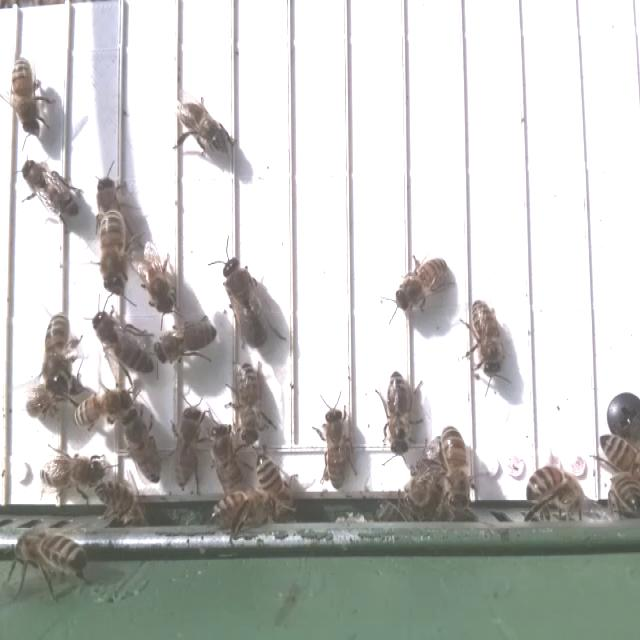Drone: (221, 251, 273, 353)
Worker: (90, 308, 154, 381), (18, 156, 83, 221), (152, 315, 220, 367), (120, 408, 166, 484), (468, 295, 506, 385), (170, 402, 207, 493), (395, 254, 449, 315), (176, 95, 230, 156), (382, 363, 415, 460), (254, 447, 297, 521), (524, 462, 586, 513), (210, 419, 247, 503), (36, 450, 110, 492), (96, 207, 130, 297), (441, 420, 471, 520), (41, 308, 73, 401), (231, 359, 263, 451), (9, 55, 42, 138), (74, 384, 130, 431), (322, 406, 353, 490), (596, 427, 640, 479)
